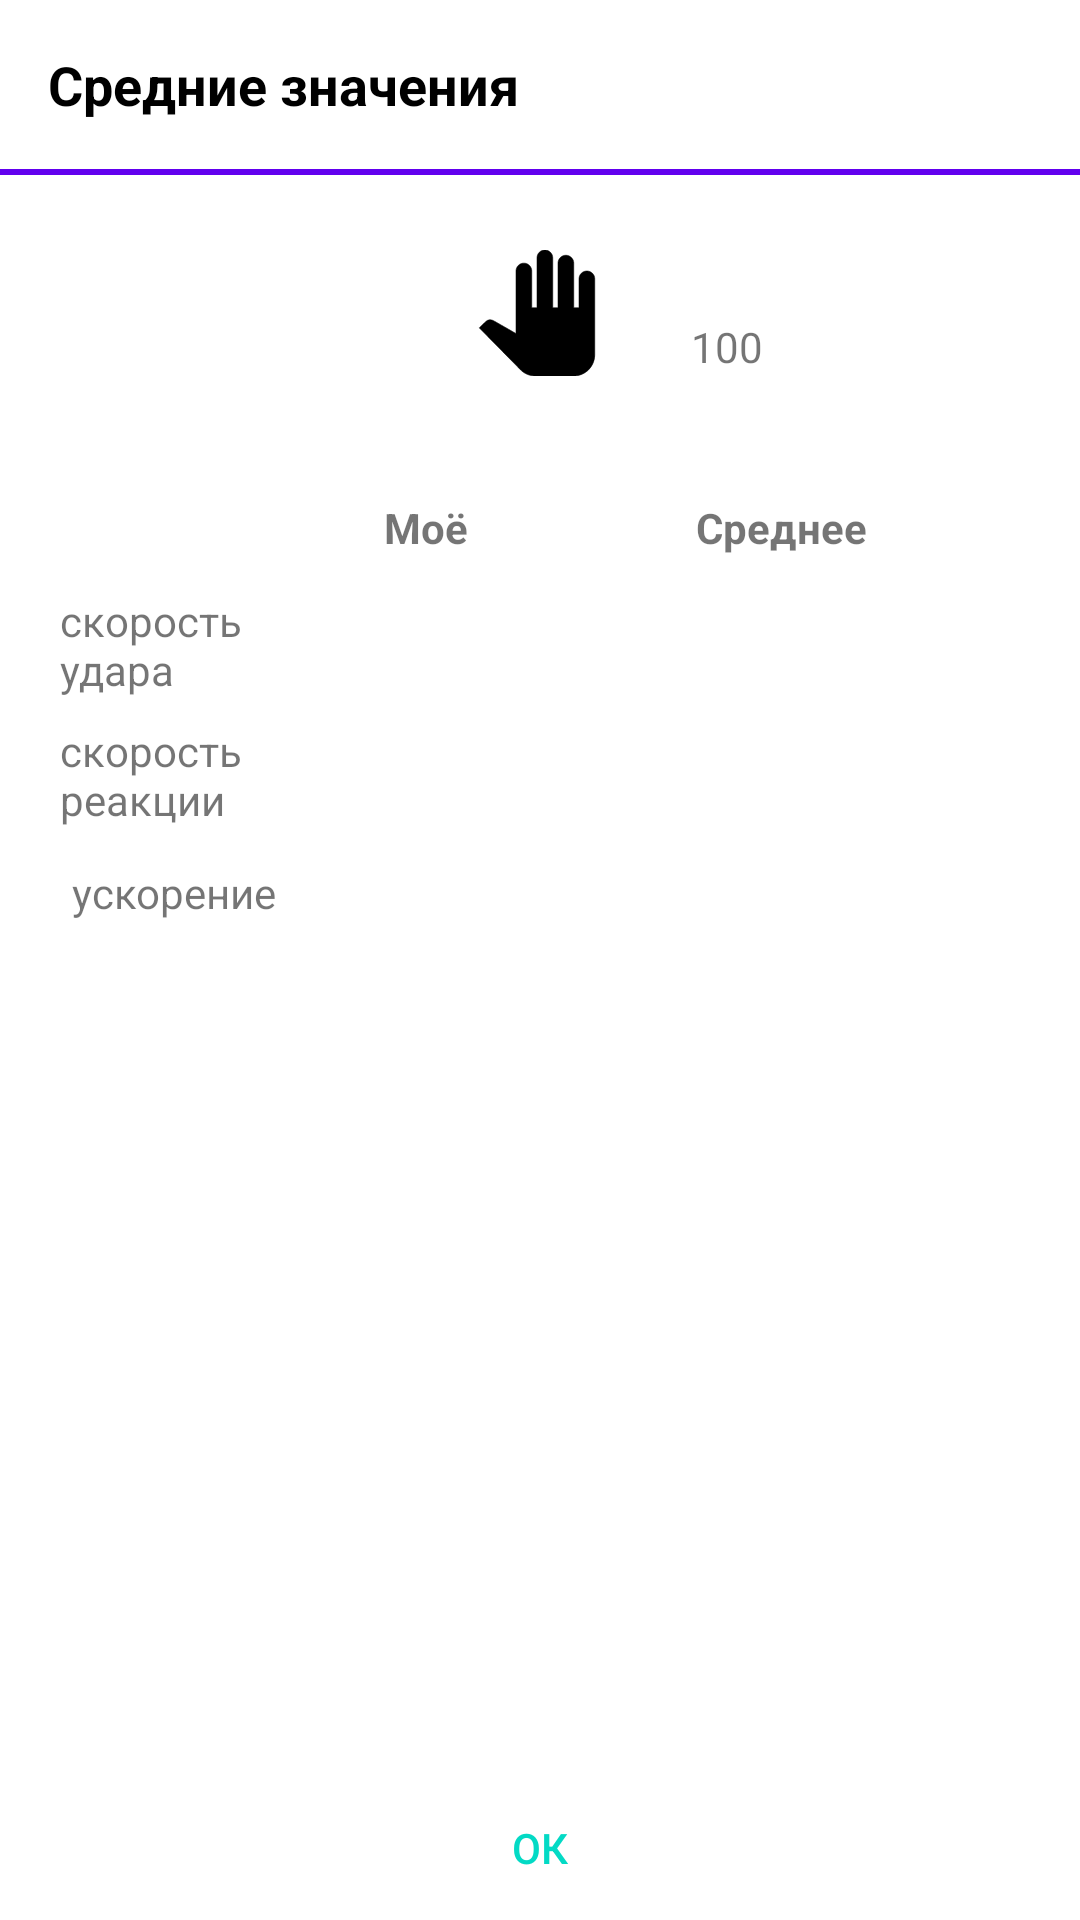

Icons on this 1080w x 1920h Android screen, each with the point to tap as point (x, y):
left hand: point (537, 313)
